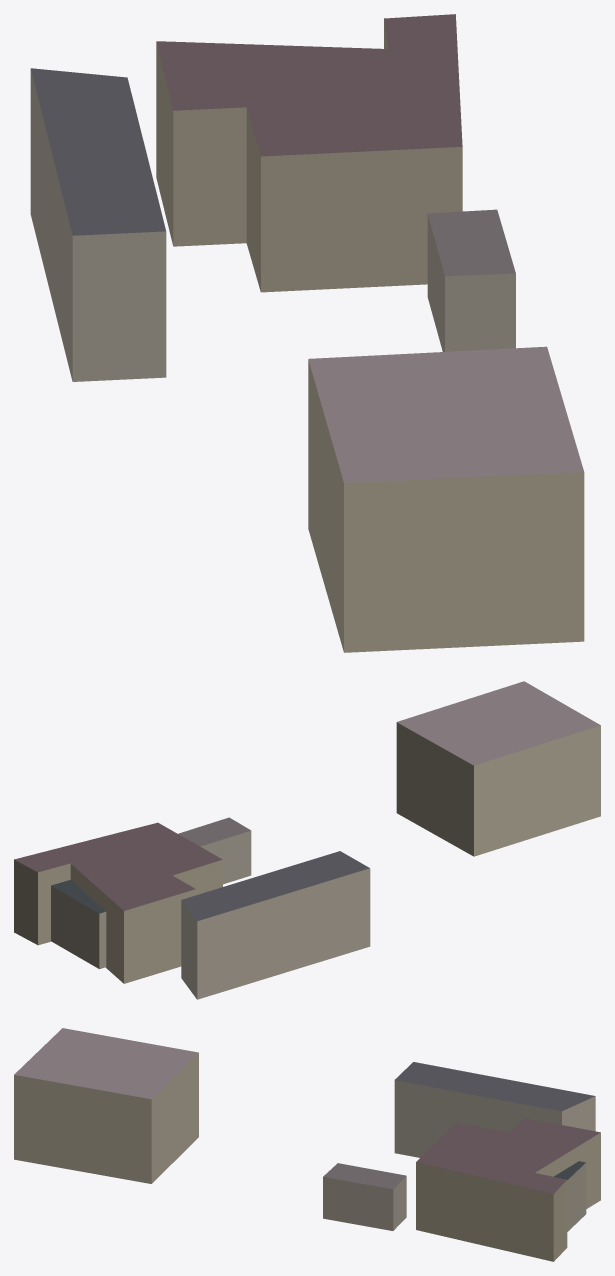
3 views of the same model, one above another, from view 1: azimuth 30°, elevation 25°; view 2: azimuth 150°, elevation 25°; view 3: azimuth 270°, elevation 25° (orthographic). The views are drawn at different scales.
Parts seen in each view (by area): view 1: tuile; view 2: tuile; view 3: tuile.
Boxes of the visible parts, x1,y1,x2,y2 form: tuile: [30, 14, 584, 652]; tuile: [14, 681, 600, 999]; tuile: [14, 1028, 600, 1261].
Size of the model in its own units: 25.8 by 7.16 by 43.5.
